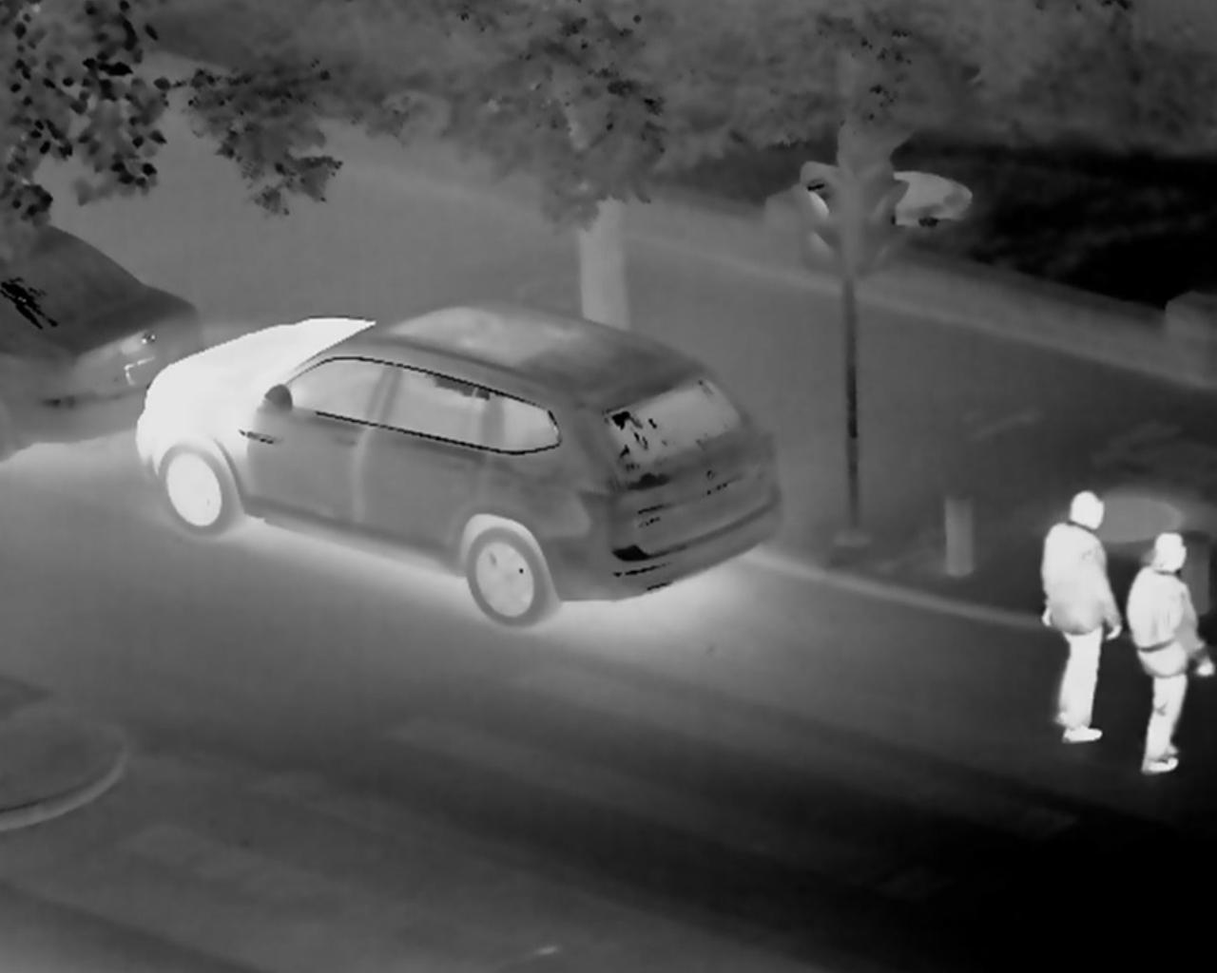person: (1025, 483, 1120, 751), (1132, 519, 1217, 723)
